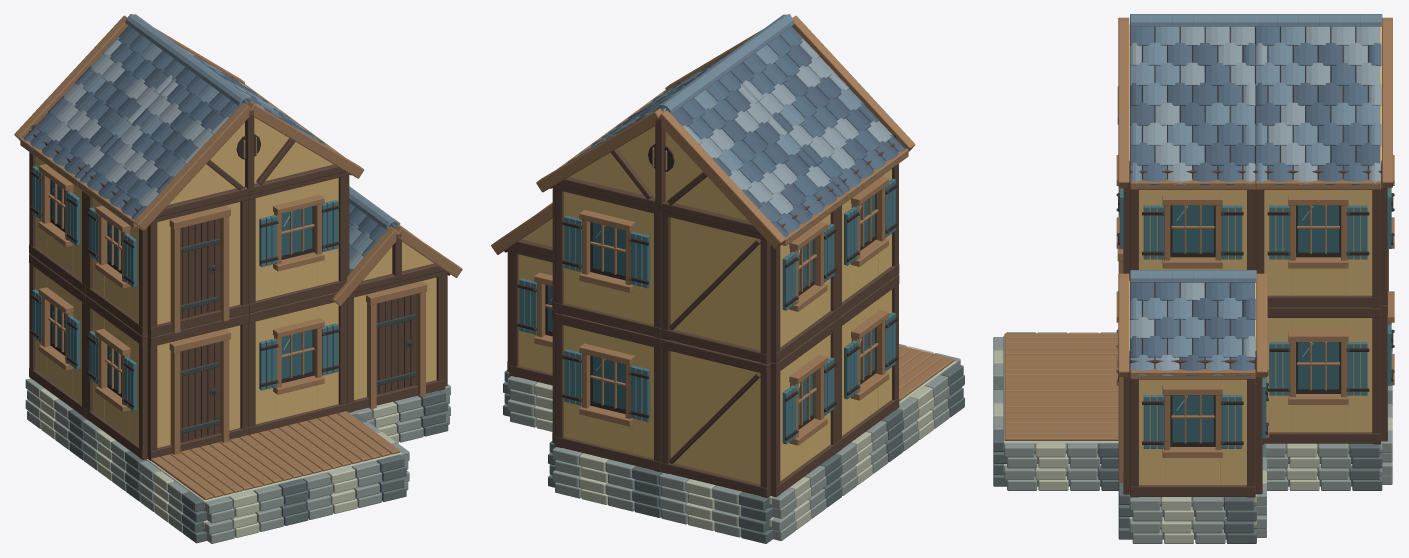
File: merchant_steps_no_extras.glb
3 views of the same model, side by side, from view 1: azimuth 30°, elevation 25°; view 2: azimuth 150°, elevation 25°; view 3: azimuth 270°, elevation 25° (orthographic). The views are drawn at different scales.
Visible parts, largest first — view 1: roof_gable_4x2m__finish.001, roof_gable_4x2m__finish, gable_end_4m__structure, wall_door_2m__structure, wall_door_2m__structure.002, wall_window_2m__finish.009, wall_window_2m__finish.002, wall_door_2m__structure.001, wall_window_2m__structure.002, wall_door_2m__finish, wall_door_2m__finish.002, wall_door_2m__finish.001 (+30 smaller); view 2: roof_gable_4x2m__finish, roof_gable_4x2m__finish.001, wall_plain_2m__finish, wall_plain_2m__finish.001, gable_end_4m__structure.001, wall_window_2m__finish.004, wall_window_2m__finish.012, wall_window_2m__structure.004, wall_window_2m__structure.012, wall_window_2m__structure.001, wall_plain_2m__structure, gable_end_4m__finish.001 (+27 smaller); view 3: roof_gable_4x2m__finish.001, roof_gable_4x2m__finish, roof_gable_2x2m__finish, wall_window_2m__finish.003, wall_window_2m__finish.005, wall_window_2m__finish.011, wall_window_2m__structure.005, wall_window_2m__structure.003, wall_window_2m__structure.011, floor_cell_2m__structure.010, floor_cell_2m__structure.009, wall_window_2m__finish.010 (+23 smaller).
Part boxes in pixels (x1=…): roof_gable_4x2m__finish.001: x1=21, y1=14, x2=298, y2=180; roof_gable_4x2m__finish: x1=78, y1=55, x2=335, y2=222; gable_end_4m__structure: x1=133, y1=101, x2=363, y2=230; wall_door_2m__structure: x1=147, y1=314, x2=248, y2=460; wall_door_2m__structure.002: x1=147, y1=195, x2=248, y2=337; wall_window_2m__finish.009: x1=255, y1=178, x2=338, y2=300; wall_window_2m__finish.002: x1=255, y1=302, x2=338, y2=424; wall_door_2m__structure.001: x1=347, y1=271, x2=445, y2=412; wall_window_2m__structure.002: x1=248, y1=292, x2=347, y2=435; wall_door_2m__finish: x1=157, y1=325, x2=240, y2=447; wall_door_2m__finish.002: x1=157, y1=202, x2=240, y2=324; wall_door_2m__finish.001: x1=354, y1=277, x2=436, y2=399; roof_gable_4x2m__finish: x1=608, y1=14, x2=907, y2=194; roof_gable_4x2m__finish.001: x1=567, y1=59, x2=845, y2=239; wall_plain_2m__finish: x1=670, y1=351, x2=760, y2=484; wall_plain_2m__finish.001: x1=670, y1=217, x2=760, y2=350; gable_end_4m__structure.001: x1=536, y1=108, x2=785, y2=249; wall_window_2m__finish.004: x1=563, y1=325, x2=653, y2=458; wall_window_2m__finish.012: x1=563, y1=191, x2=653, y2=324; wall_window_2m__structure.004: x1=554, y1=313, x2=661, y2=472; wall_window_2m__structure.012: x1=554, y1=185, x2=661, y2=338; wall_window_2m__structure.001: x1=770, y1=319, x2=837, y2=497; wall_plain_2m__structure: x1=661, y1=339, x2=770, y2=497; gable_end_4m__finish.001: x1=569, y1=126, x2=748, y2=220; roof_gable_4x2m__finish.001: x1=1255, y1=14, x2=1382, y2=184; roof_gable_4x2m__finish: x1=1130, y1=14, x2=1256, y2=184; roof_gable_2x2m__finish: x1=1130, y1=270, x2=1256, y2=375; wall_window_2m__finish.003: x1=1266, y1=318, x2=1372, y2=432; wall_window_2m__finish.005: x1=1139, y1=379, x2=1246, y2=485; wall_window_2m__finish.011: x1=1264, y1=190, x2=1372, y2=295; wall_window_2m__structure.005: x1=1130, y1=358, x2=1255, y2=497; wall_window_2m__structure.003: x1=1262, y1=307, x2=1381, y2=444; wall_window_2m__structure.011: x1=1255, y1=168, x2=1381, y2=307; floor_cell_2m__structure.010: x1=1004, y1=386, x2=1118, y2=440; floor_cell_2m__structure.009: x1=1004, y1=333, x2=1118, y2=386; wall_window_2m__finish.010: x1=1139, y1=190, x2=1246, y2=269.
Bounding box in the file's own units: 6.61 × 7.37 × 6.4.
